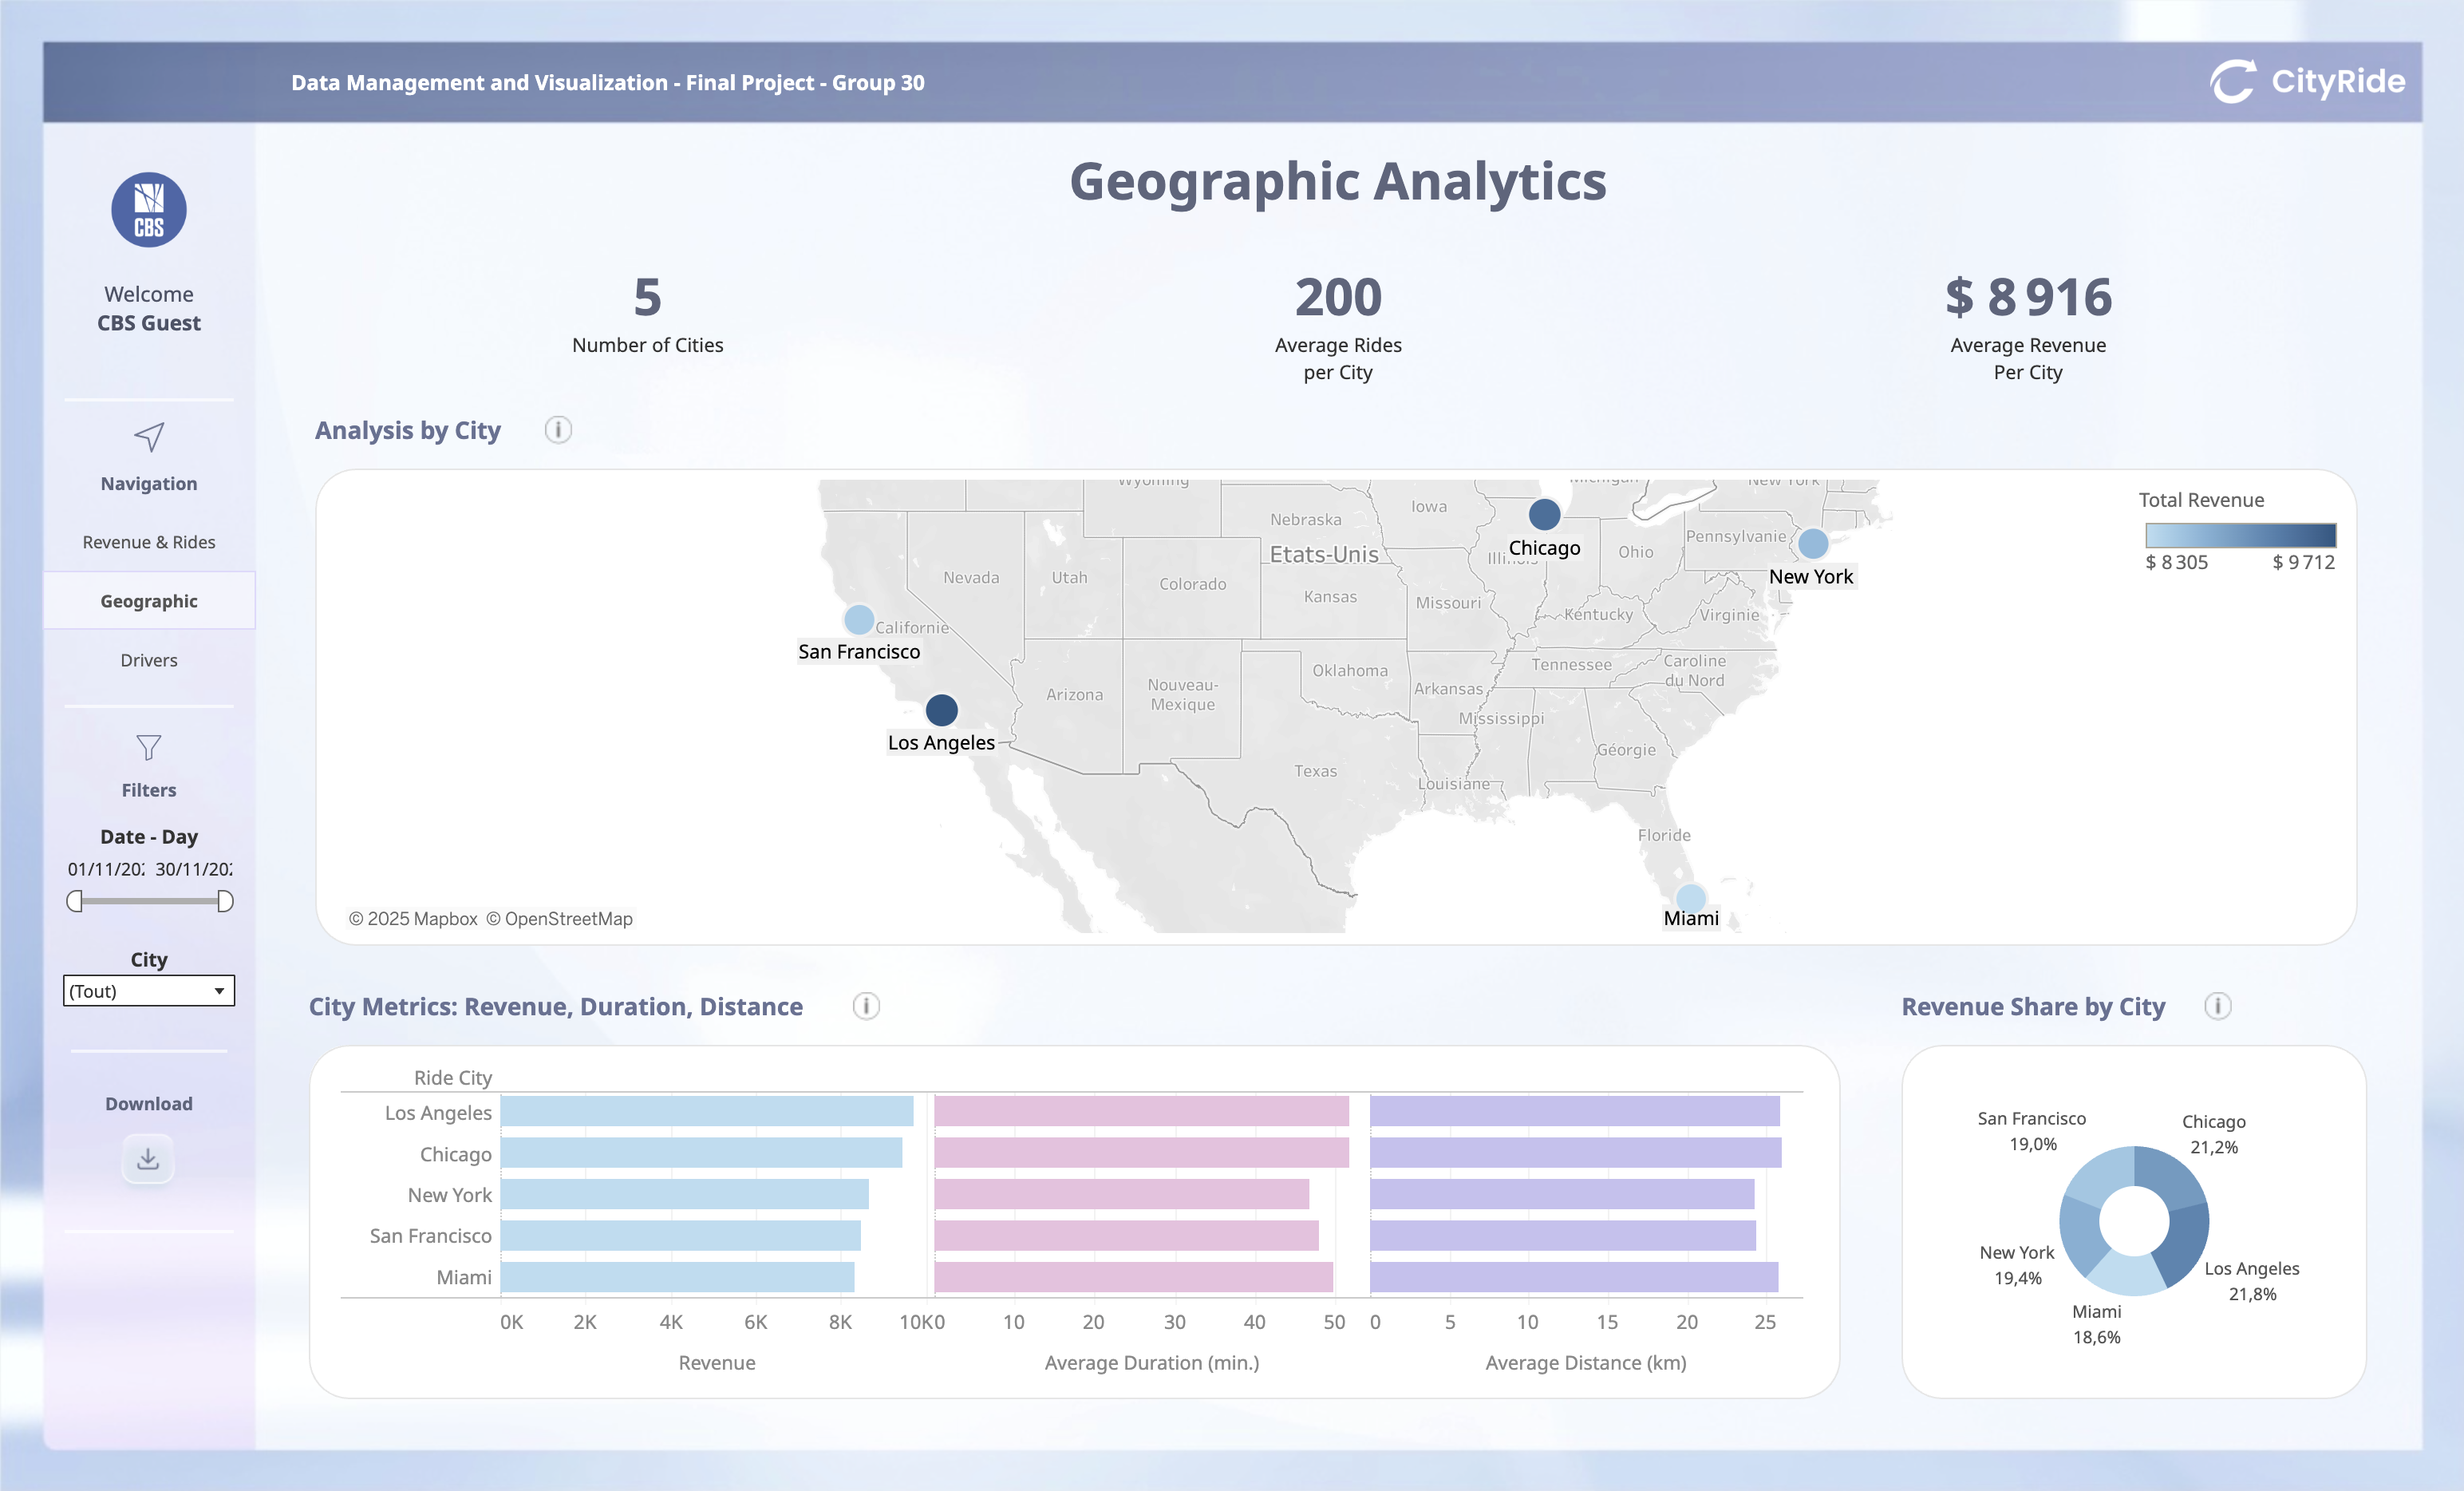

What the dashboard file says about the page in this screenshot:
{"tool":"tableau","page":{"name":"Geographic Analytics","canvas":[1545,935],"ordinal":1},"visuals":[{"type":"image","param":"Image/my dashy background2.jpg","box":[0,0,1545,935]},{"type":"image","param":"Image/CityRide_Logo_White.png","box":[1380,33,131,37]},{"type":"text","box":[182,37,457,30]},{"type":"text","box":[166,81,1346,64]},{"type":"image","param":"Image/CBS_Guest2.png","box":[31,91,126,82]},{"type":"blank","box":[166,145,1346,10]},{"type":"blank","box":[166,155,20,750]},{"type":"blank","box":[1492,155,20,750]},{"type":"worksheet","title":"Number of Cities","mark":"Automatic","box":[190,159,433,61]},{"type":"worksheet","title":"Average Rides per City","mark":"Automatic","box":[623,159,433,76]},{"type":"worksheet","title":"Average Revenue per City","mark":"Automatic","box":[1056,159,432,76]},{"type":"text","box":[31,173,126,45]},{"type":"blank","box":[27,246,134,10]},{"type":"text","box":[194,250,139,40]},{"type":"worksheet","title":"Info - Analysis by City","mark":"Shape","rows":["Calculation_4254494283448487939"],"box":[333,250,35,40]},{"type":"image","param":"Image/nav3.png","box":[31,260,126,28.5]},{"type":"text","box":[31,288.5,126,28.5]},{"type":"worksheet","title":"Rounded Angles","mark":"Automatic","box":[194,290,1290,307]},{"type":"worksheet","title":"Analysis by City","mark":"Automatic","box":[215,301,1246,284]},{"type":"legend","title":"Analysis by City","param":"[federated.0rdon331r0s0vi1b5az8y1df2ouw].[sum:fare_usd:qk]","box":[1341,305,128,57]},{"type":"dashboard-object","box":[27,321,134,37]},{"type":"dashboard-object","box":[27,358,134,37]},{"type":"dashboard-object","box":[27,395,134,37]},{"type":"blank","box":[27,432,134,16]},{"type":"image","param":"Image/filter.png","box":[35,456,118,26]},{"type":"text","box":[35,482,118,26]},{"type":"filter","title":"Analysis by City","param":"[federated.0rdon331r0s0vi1b5az8y1df2ouw].[none:Full Date (copie)_371666597106969","box":[35,512,118,77]},{"type":"filter","title":"Analysis by City","param":"[federated.0rdon331r0s0vi1b5az8y1df2ouw].[none:Ride City (copie)_371666597107084","box":[35,589,118,51]},{"type":"blank","box":[190,601,1298,10]},{"type":"text","box":[190,611,336,40]},{"type":"worksheet","title":"Info - Revenue, Duration and Distance by City","mark":"Shape","rows":["Calculation_4254494283448487939"],"box":[526,611,35,40]},{"type":"blank","box":[1158,611,30,270]},{"type":"text","box":[1188,611,185,40]},{"type":"worksheet","title":"Info - Revenue Contribution by City","mark":"Shape","rows":["Calculation_4254494283448487939"],"box":[1373,611,35,40]},{"type":"blank","box":[31,648,126,16]},{"type":"worksheet","title":"Rounded Angles (2)","mark":"Automatic","box":[190,651,968,230]},{"type":"worksheet","title":"Rounded Angles (3)","mark":"Automatic","box":[1188,651,300,230]},{"type":"worksheet","title":"Revenue Contribution by City","mark":"Pie","cols":["Calculation_3716665971090399236","Calculation_3716665971090411526"],"box":[1202,663,272,205]},{"type":"worksheet","title":"Revenue, Duration and Distance by City","mark":"Automatic","rows":["ride_city"],"cols":["fare_usd","duration_min","distance_km"],"box":[214,664,918,205]},{"type":"text","box":[27,680,134,23]},{"type":"dashboard-object","box":[27,703,134,56]},{"type":"blank","box":[27,761,134,16]},{"type":"blank","box":[27,777,134,130]}]}

Visuals, with their boxes in screenshot pixels (x1, y1, x2, y2), scaled from the page's 1545x935 canvas onto the 2464x1491 screenshot:
image: 0/0/2463/1490
image: 2201/53/2410/112
text: 290/59/1019/107
text: 265/129/2411/231
image: 49/145/251/276
blank: 265/231/2411/247
blank: 265/247/297/1443
blank: 2379/247/2411/1443
"Number of Cities" worksheet: 303/254/993/351
"Average Rides per City" worksheet: 993/254/1684/374
"Average Revenue per City" worksheet: 1684/254/2373/374
text: 49/276/251/348
blank: 43/392/257/408
text: 310/398/531/462
"Info - Analysis by City" worksheet (Shape marks): 531/398/587/462
image: 49/414/251/460
text: 49/460/251/505
"Rounded Angles" worksheet: 310/462/2367/952
"Analysis by City" worksheet: 343/480/2330/933
"Analysis by City" legend: 2138/486/2343/577
dashboard-object: 43/512/257/571
dashboard-object: 43/571/257/630
dashboard-object: 43/630/257/689
blank: 43/689/257/714
image: 56/727/244/769
text: 56/769/244/810
"Analysis by City" filter: 56/817/244/939
"Analysis by City" filter: 56/939/244/1021
blank: 303/959/2373/975
text: 303/975/839/1038
"Info - Revenue, Duration and Distance by City" worksheet (Shape marks): 839/975/894/1038
blank: 1847/975/1894/1405
text: 1894/975/2190/1038
"Info - Revenue Contribution by City" worksheet (Shape marks): 2190/975/2245/1038
blank: 49/1034/251/1059
"Rounded Angles (2)" worksheet: 303/1038/1847/1405
"Rounded Angles (3)" worksheet: 1894/1038/2373/1405
"Revenue Contribution by City" worksheet (Pie marks): 1917/1058/2351/1384
"Revenue, Duration and Distance by City" worksheet: 342/1059/1806/1386
text: 43/1085/257/1121
dashboard-object: 43/1121/257/1210
blank: 43/1213/257/1239
blank: 43/1239/257/1446
